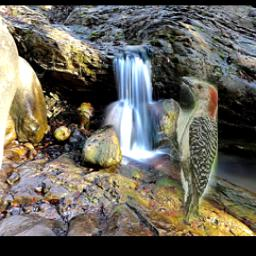Woodpecker: (160, 77, 217, 232)
